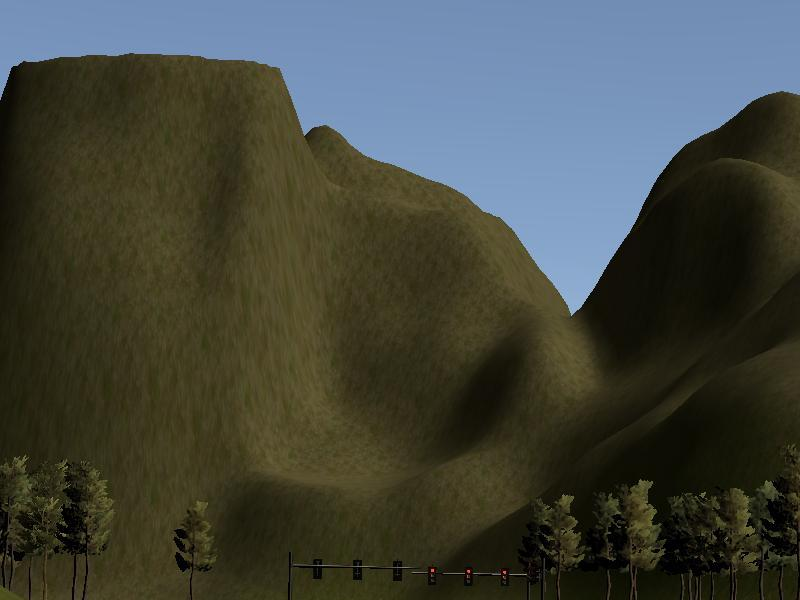Red: (499, 569, 509, 589), (464, 566, 473, 586), (427, 566, 436, 585)
